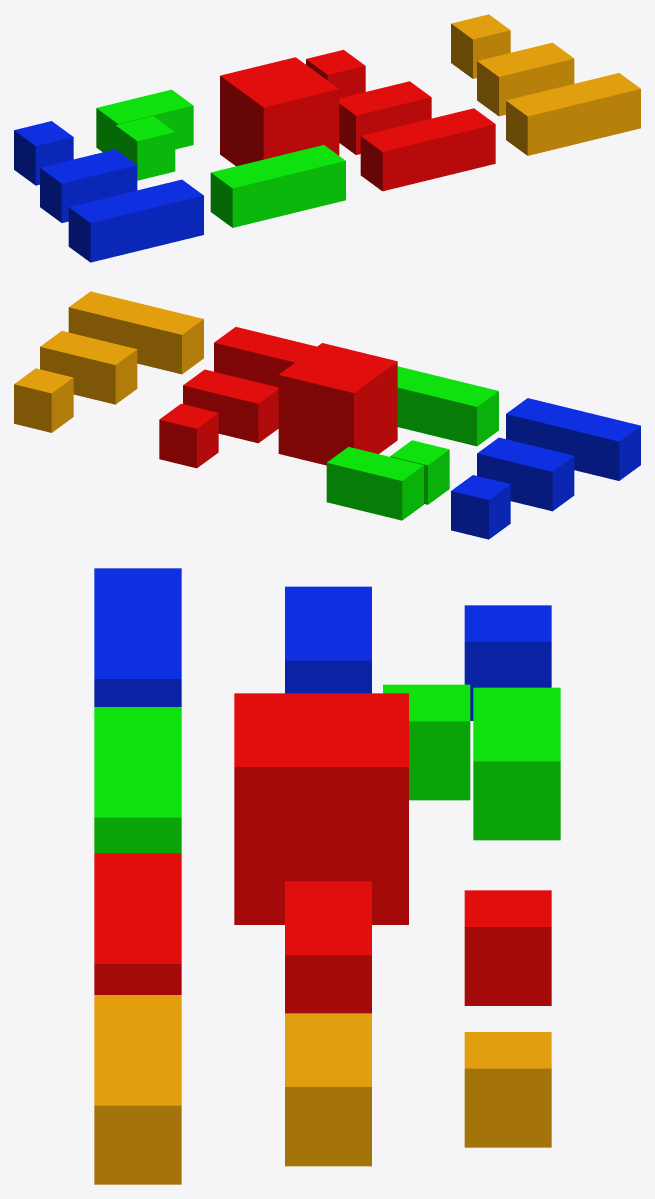
Rendered from teacher block.FBX.
3 renders of one model, top to bottom at view 1: azimuth 30°, elevation 25°; view 2: azimuth 150°, elevation 25°; view 3: azimuth 270°, elevation 25°, orthographic. The views are drawn at different scales.
Visible parts, largest first — view 1: RedCube2, RedCuboid3, BlueCuboid3, GreenCuboid3, YellowCuboid3, YellowCuboid, BlueCuboid, RedCuboid, GreenCuboid, GreenCube00, YellowCube, BlueCube (+1 smaller); view 2: RedCube2, YellowCuboid3, BlueCuboid3, GreenCuboid3, GreenCuboid, BlueCuboid, YellowCuboid, RedCuboid, RedCuboid3, BlueCube, RedCube, YellowCube (+1 smaller); view 3: RedCube2, YellowCuboid3, GreenCuboid, YellowCuboid, GreenCuboid3, RedCuboid3, BlueCuboid3, RedCuboid, RedCube, YellowCube, BlueCuboid, GreenCube00 (+1 smaller).
Part boxes in pixels (bbox=[...]): RedCube2: bbox=[220, 57, 339, 166]; RedCuboid3: bbox=[360, 108, 495, 191]; BlueCuboid3: bbox=[68, 179, 203, 262]; GreenCuboid3: bbox=[210, 145, 345, 227]; YellowCuboid3: bbox=[506, 73, 640, 155]; YellowCuboid: bbox=[477, 42, 574, 116]; BlueCuboid: bbox=[40, 149, 137, 222]; RedCuboid: bbox=[339, 81, 431, 154]; GreenCuboid: bbox=[96, 89, 193, 152]; GreenCube00: bbox=[115, 116, 175, 180]; YellowCube: bbox=[451, 14, 510, 78]; BlueCube: bbox=[14, 121, 73, 185]; RedCube2: bbox=[278, 343, 397, 465]; YellowCuboid3: bbox=[68, 291, 203, 374]; BlueCuboid3: bbox=[506, 398, 640, 480]; GreenCuboid3: bbox=[397, 366, 498, 446]; GreenCuboid: bbox=[326, 447, 423, 520]; BlueCuboid: bbox=[477, 437, 574, 511]; YellowCuboid: bbox=[40, 331, 137, 404]; RedCuboid: bbox=[183, 369, 278, 443]; RedCuboid3: bbox=[214, 327, 316, 387]; BlueCube: bbox=[451, 475, 510, 539]; RedCube: bbox=[159, 404, 218, 468]; YellowCube: bbox=[14, 368, 73, 432]; RedCube2: bbox=[234, 693, 408, 924]; YellowCuboid3: bbox=[94, 995, 181, 1184]; GreenCuboid: bbox=[473, 687, 560, 840]; YellowCuboid: bbox=[285, 1013, 371, 1166]; GreenCuboid3: bbox=[94, 707, 181, 853]; RedCuboid3: bbox=[94, 853, 181, 994]; BlueCuboid3: bbox=[94, 568, 181, 706]; RedCuboid: bbox=[285, 881, 371, 1013]; RedCube: bbox=[464, 890, 551, 1005]; YellowCube: bbox=[464, 1032, 551, 1147]; BlueCuboid: bbox=[285, 586, 371, 693]; GreenCube00: bbox=[383, 684, 470, 800].
Size of the model in its own units: 72.88 by 10.43 by 26.73.
